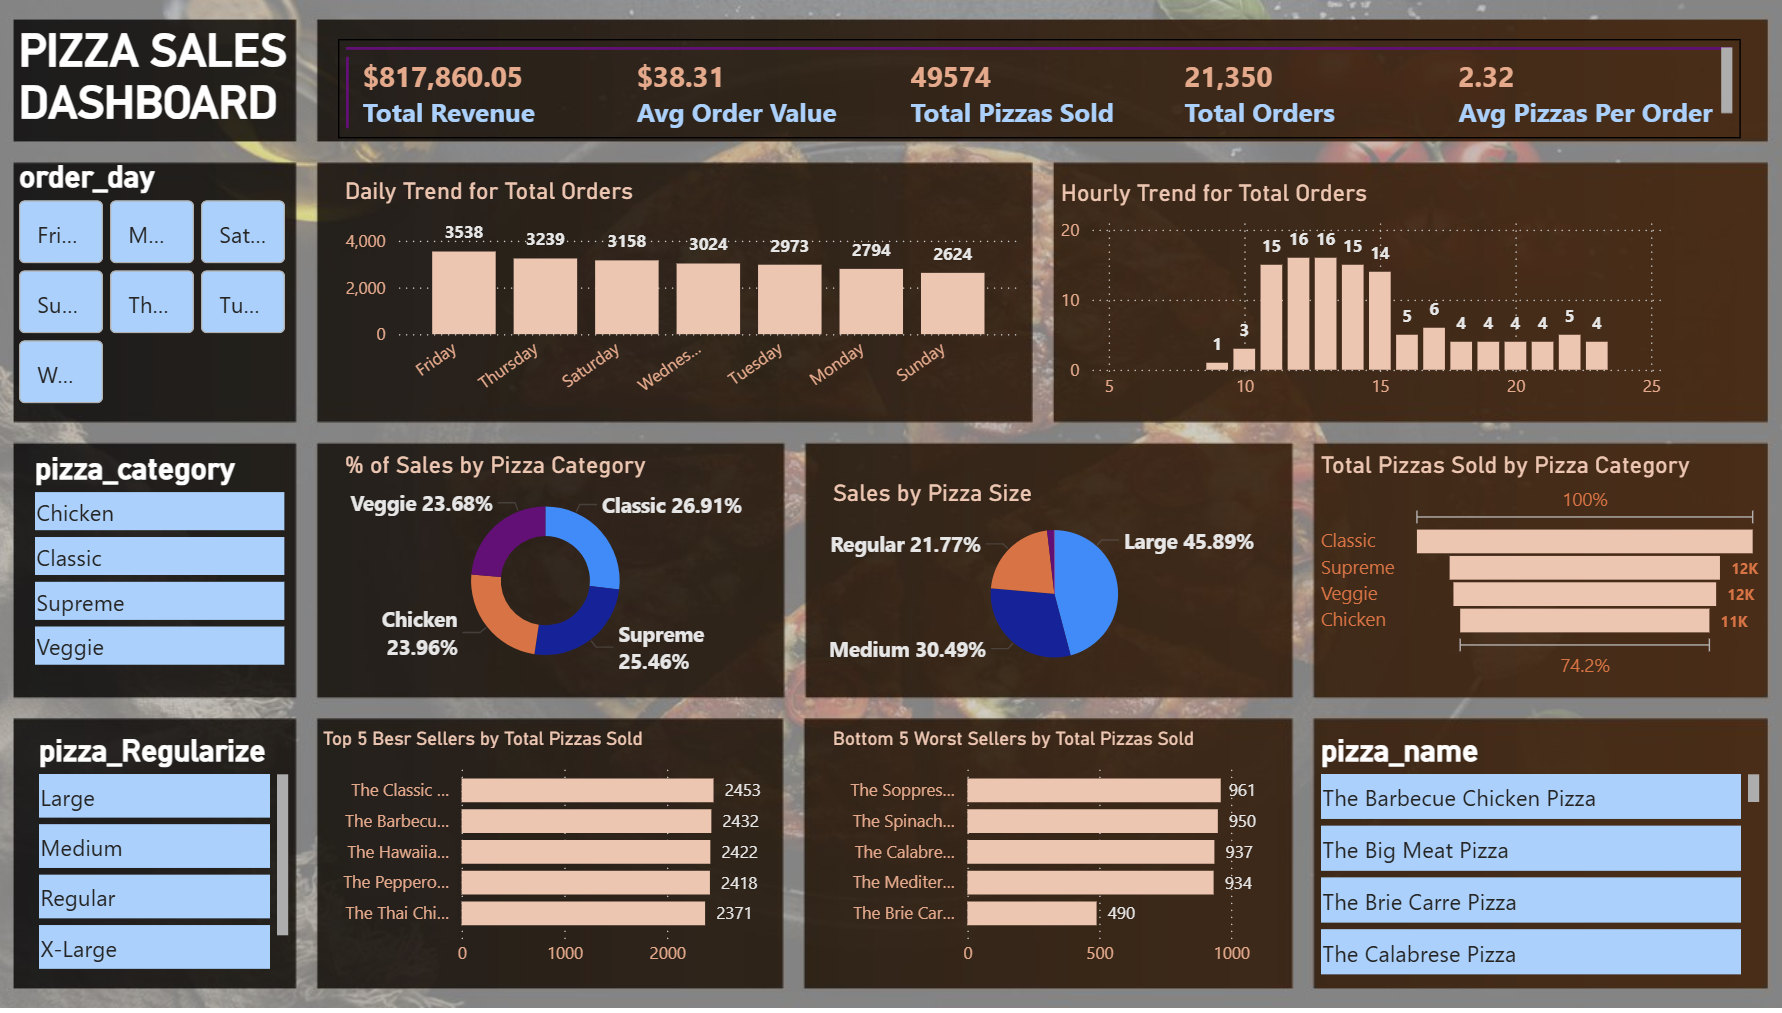

What the dashboard file says about the page in this screenshot:
{"tool":"powerbi","page":{"name":"Page 1","canvas":[1400,913],"ordinal":0},"visuals":[{"type":"multiRowCard","fields":{"Values":["pizza_sales.Total Revenue","pizza_sales.Avg Order Value","pizza_sales.Total Pizzas Sold","pizza_sales.Total Orders","pizza_sales.Avg Pizzas Per Order"]},"box":[305.6,121.1,1002.2,71.1],"z":0},{"type":"clusteredColumnChart","title":"Daily Trend for Total Orders","fields":{"Category":["pizza_sales.order_day"],"Y":["pizza_sales.Total Orders"]},"box":[305,220,491.2,166.2],"z":1000},{"type":"pieChart","title":"Sales by Pizza Size","fields":{"Category":["pizza_sales.pizza_Regularize"],"Y":["pizza_sales.Total Revenue"]},"box":[653.8,436.2,326.2,145],"z":2000},{"type":"barChart","title":"Top 5 Besr Sellers by Total Pizzas Sold","fields":{"Category":["pizza_sales.pizza_name"],"Y":["Sum(pizza_sales.quantity)"]},"box":[290,613.3,336.7,180],"z":3000},{"type":"listSlicer","fields":{"Values":["pizza_sales.order_day"]},"box":[73.3,206.7,200,180],"z":4000},{"type":"listSlicer","fields":{"Values":["pizza_sales.pizza_category"]},"box":[1003,613,323,181],"z":5000},{"type":"listSlicer","fields":{"Values":["pizza_sales.pizza_Regularize"]},"box":[86.7,616.7,188.3,176.7],"z":6000},{"type":"barChart","title":"Bottom 5 Worst Sellers by Total Pizzas Sold","fields":{"Category":["pizza_sales.pizza_name"],"Y":["Sum(pizza_sales.quantity)"]},"box":[655,613.3,325,180],"z":8000},{"type":"donutChart","title":"% of Sales by Pizza Category","fields":{"Category":["pizza_sales.pizza_category"],"Y":["Sum(pizza_sales.total_price)"]},"box":[305,415,296.2,166.2],"z":9000},{"type":"lineStackedColumnComboChart","title":"Hourly Trend for Total Orders","fields":{"Category":["pizza_sales.Order hour"],"Y":["Count(pizza_sales.total_orders)"]},"box":[817.5,221.2,442.5,166.2],"z":10000},{"type":"funnel","title":"Total Pizzas Sold by Pizza Category","fields":{"Category":["pizza_sales.pizza_category"],"Y":["Sum(pizza_sales.quantity)"]},"box":[1003.3,415,323.3,166.7],"z":11000},{"type":"textbox","title":"PIZZA SALES DASHBOARD","box":[73.3,110,203.3,83.3],"z":12000},{"type":"listSlicer","fields":{"Values":["pizza_sales.order_date.Variation.Date Hierarchy.Month","pizza_sales.order_date.Variation.Date Hierarchy.Day"]},"box":[73,415,200,176],"z":12002}]}

Visuals, with their boxes on the page's 1400x913 design canvas (x1, y1, x2, y2). These are canvas units, not pixel positions in the 1782x1013 screenshot, which may show the page scaled, cropped or inside an application window:
multiRowCard - pizza_sales.Total Revenue x pizza_sales.Avg Order Value: (left=306, top=121, right=1308, bottom=192)
"Daily Trend for Total Orders" clusteredColumnChart: (left=305, top=220, right=796, bottom=386)
"Sales by Pizza Size" pieChart: (left=654, top=436, right=980, bottom=581)
"Top 5 Besr Sellers by Total Pizzas Sold" barChart: (left=290, top=613, right=627, bottom=793)
listSlicer - pizza_sales.order_day: (left=73, top=207, right=273, bottom=387)
listSlicer - pizza_sales.pizza_category: (left=1003, top=613, right=1326, bottom=794)
listSlicer - pizza_sales.pizza_Regularize: (left=87, top=617, right=275, bottom=793)
"Bottom 5 Worst Sellers by Total Pizzas Sold" barChart: (left=655, top=613, right=980, bottom=793)
"% of Sales by Pizza Category" donutChart: (left=305, top=415, right=601, bottom=581)
"Hourly Trend for Total Orders" lineStackedColumnComboChart: (left=818, top=221, right=1260, bottom=387)
"Total Pizzas Sold by Pizza Category" funnel: (left=1003, top=415, right=1327, bottom=582)
"PIZZA SALES DASHBOARD" textbox: (left=73, top=110, right=277, bottom=193)
listSlicer - pizza_sales.order_date.Variation.Date Hierarchy.Month x pizza_sales.order_date.Variation.Date Hierarchy.Day: (left=73, top=415, right=273, bottom=591)
